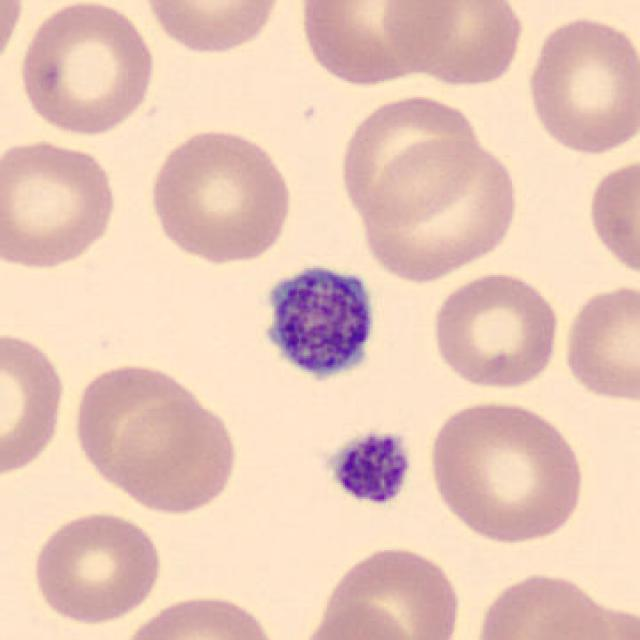Platelets: (249, 256, 380, 388), (324, 427, 416, 508)
RBC: (423, 396, 589, 546), (356, 136, 522, 284), (144, 124, 295, 266), (67, 356, 212, 497), (336, 90, 484, 227), (14, 0, 158, 139), (523, 10, 638, 158), (426, 268, 564, 391), (0, 136, 121, 273), (28, 508, 165, 628), (312, 539, 467, 640), (110, 396, 240, 516), (294, 0, 461, 88), (384, 0, 528, 88), (467, 567, 629, 640), (0, 326, 69, 481), (558, 280, 638, 406), (117, 589, 283, 640), (136, 0, 286, 56), (583, 152, 638, 284), (377, 0, 466, 72), (292, 599, 416, 640), (0, 0, 27, 78)
